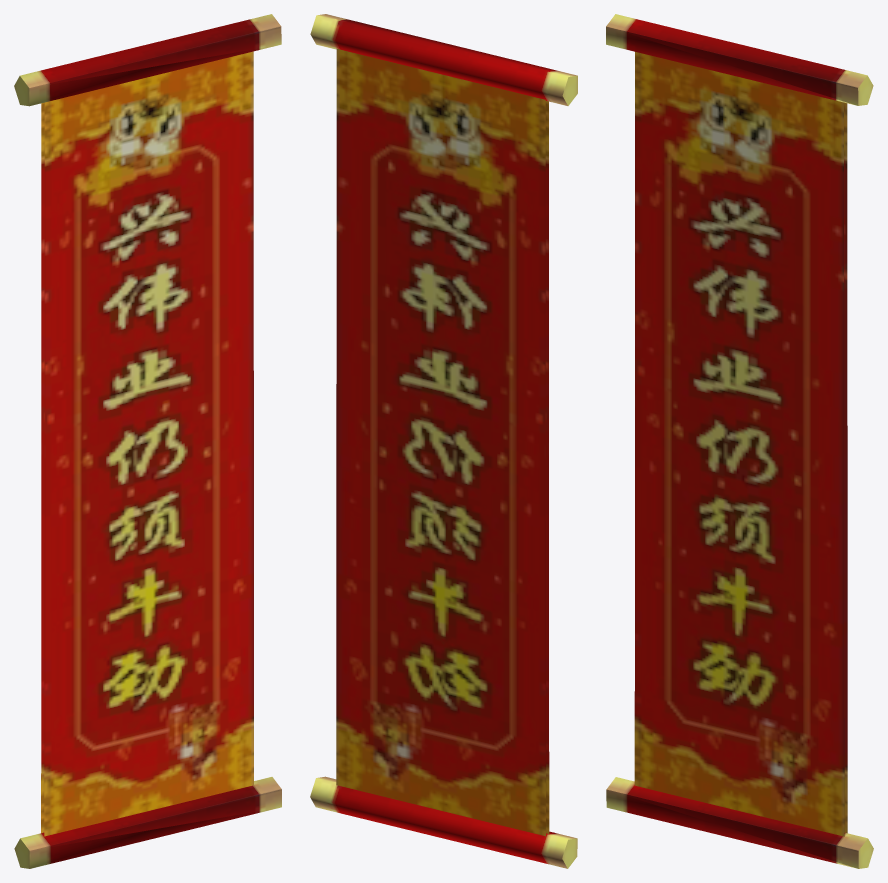
File: furni_0200226.FBX
The picture shows the model from 3 angles, left to right: view 1: azimuth 30°, elevation 25°; view 2: azimuth 150°, elevation 25°; view 3: azimuth 330°, elevation 25°; orthographic projection.
Visible parts, largest first — view 1: furni_0200226; view 2: furni_0200226; view 3: furni_0200226.
Boxes of the visible parts, x1=… form: furni_0200226: x1=14, y1=14, x2=281, y2=868; furni_0200226: x1=310, y1=14, x2=577, y2=868; furni_0200226: x1=606, y1=14, x2=873, y2=868.
Bounding box in the file's own units: 53.47 × 160 × 5.63.
Materials: 1 (1 with a texture image).
